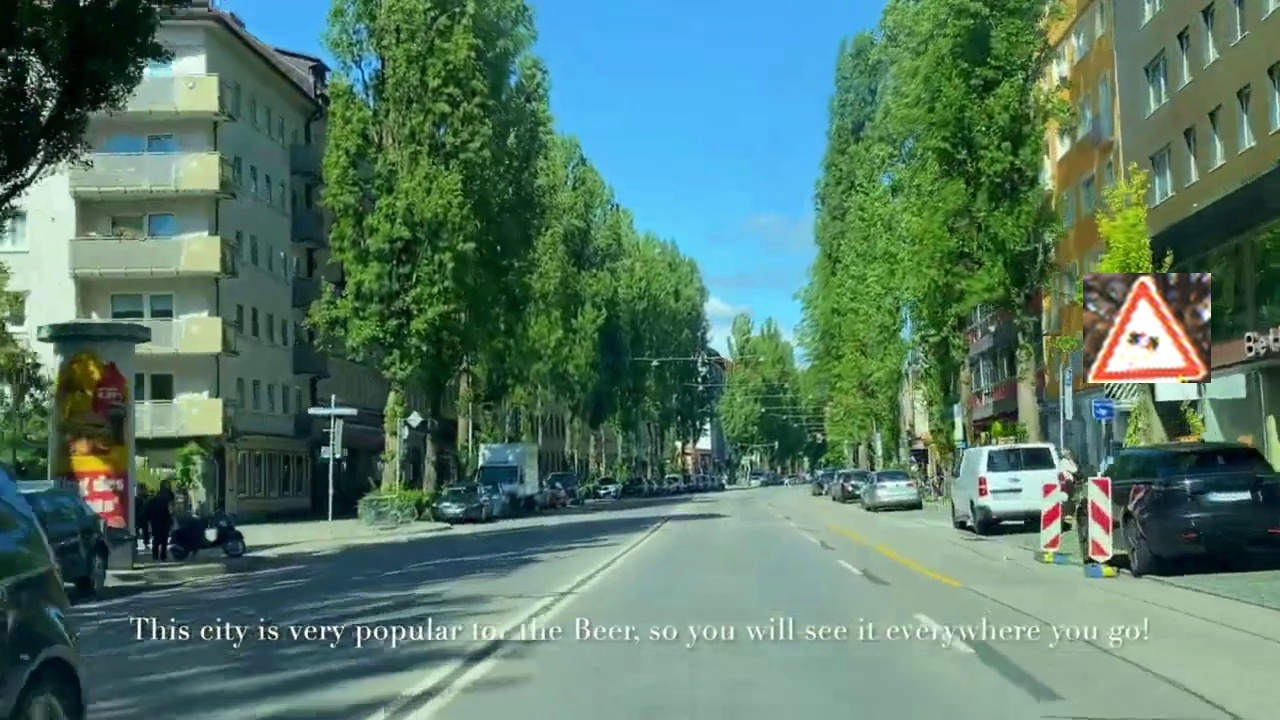Slippery: (1083, 273, 1211, 383)
